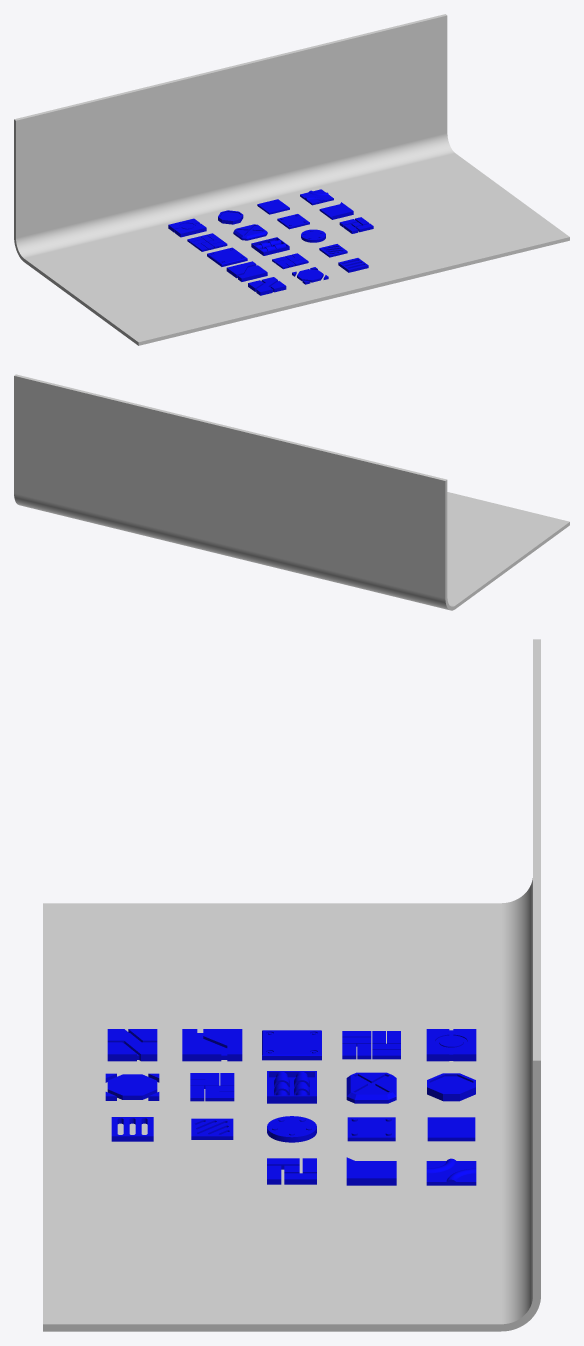
Rendered from tiles_plate.gltf.
3 renders of one model, top to bottom at view 1: azimuth 30°, elevation 25°; view 2: azimuth 150°, elevation 25°; view 3: azimuth 270°, elevation 25°, orthographic. The views are drawn at different scales.
Visible parts, largest first — view 1: backdrop, shapes; view 2: backdrop; view 3: backdrop, shapes.
Part boxes in pixels (x1,y1,x2,y2): backdrop: (14,14,569,345); shapes: (168,189,373,295); backdrop: (14,374,569,610); backdrop: (43,639,540,1331); shapes: (105,1029,476,1185).
Size of the model in its own units: 500 by 150 by 250.
